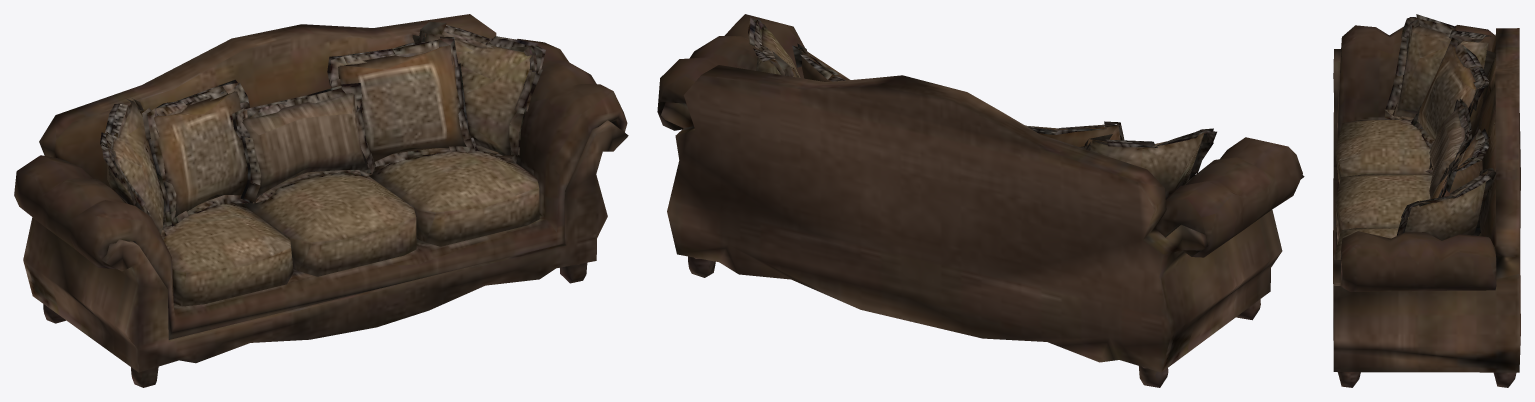
The model's file is sofa3.glb.
3 renders of one model, left to right at view 1: azimuth 30°, elevation 25°; view 2: azimuth 150°, elevation 25°; view 3: azimuth 270°, elevation 25°, orthographic. The views are drawn at different scales.
Parts seen in each view (by area): view 1: lo; view 2: lo; view 3: lo.
Part boxes in pixels (left/top/right/bottom): lo: left=14, top=14, right=628, bottom=387; lo: left=657, top=14, right=1304, bottom=387; lo: left=1333, top=14, right=1520, bottom=387.
Bounding box in the file's own units: 2.74 × 1.11 × 0.9239.
Materials: 1 (1 with a texture image).
